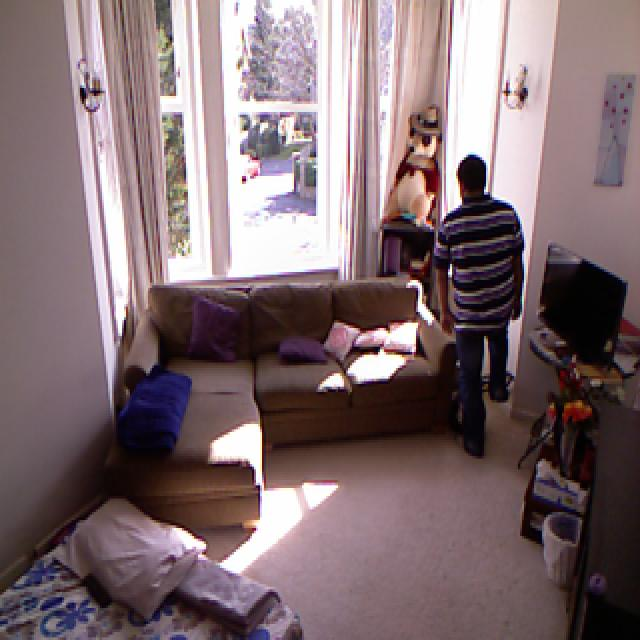standing: (433, 154, 524, 454)
